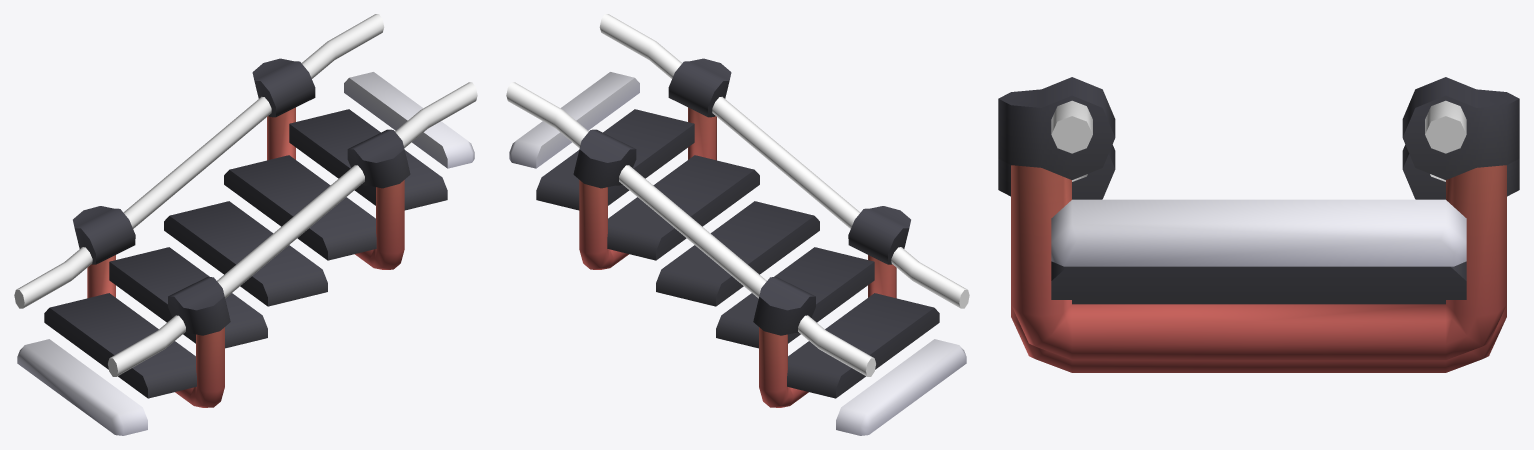
Rendered from catwalk-stairs.obj.
3 renders of one model, left to right at view 1: azimuth 30°, elevation 25°; view 2: azimuth 150°, elevation 25°; view 3: azimuth 270°, elevation 25°, orthographic. The views are drawn at different scales.
Visible parts, largest first — view 1: catwalk-stairs; view 2: catwalk-stairs; view 3: catwalk-stairs.
Part boxes in pixels (box(x1,y1,x2,y2)): catwalk-stairs: box(14, 14, 477, 435); catwalk-stairs: box(506, 14, 969, 435); catwalk-stairs: box(998, 77, 1519, 372).
Bounding box in the file's own units: 2 × 1.4 × 1.26.
